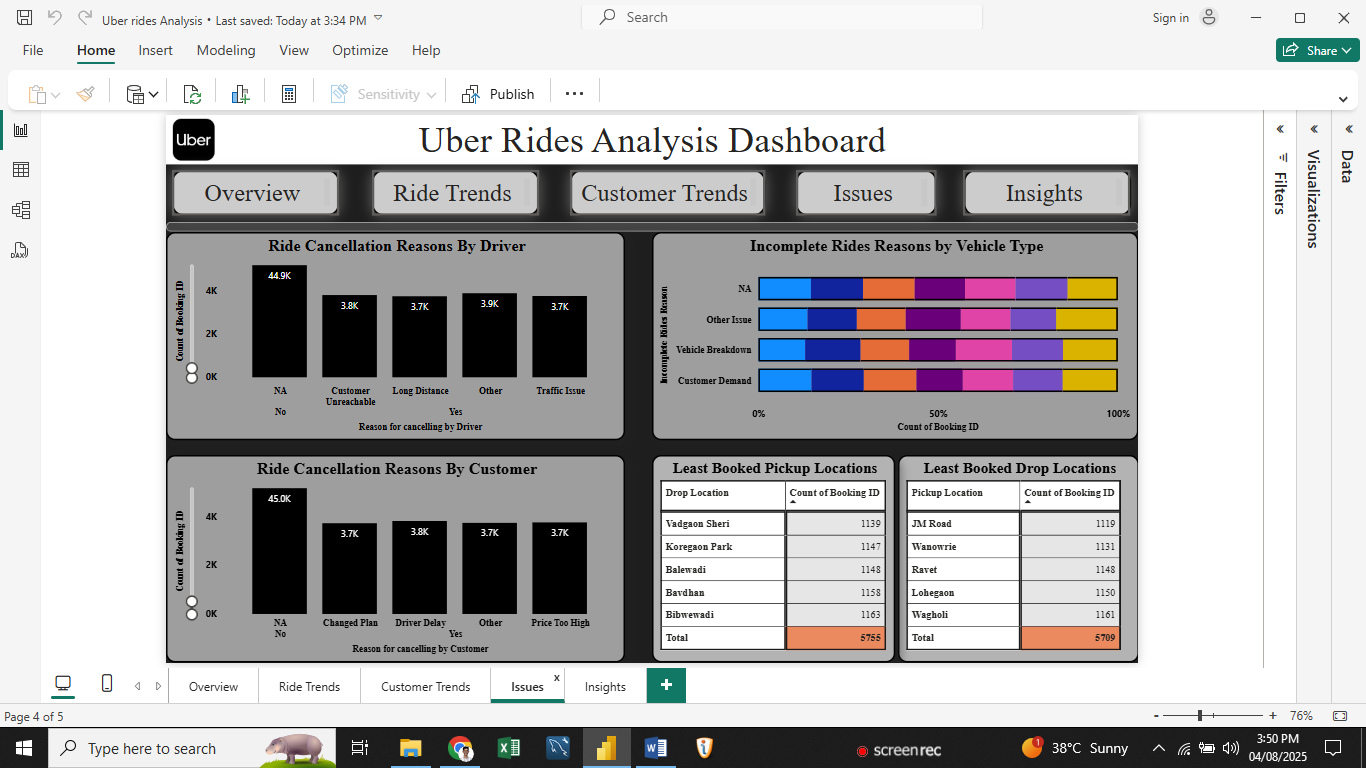

Layout of this report page (visuals, bound fields, positions):
{"tool":"powerbi","page":{"name":"Issues","canvas":[1280,720],"ordinal":3},"visuals":[{"type":"textbox","box":[0,0,1280,65.2],"z":0},{"type":"image","box":[0,0,73.9,65.2],"z":1000},{"type":"textbox","box":[7.8,72,219.8,60.3],"z":2000},{"type":"textbox","box":[270.4,72,219.8,60.3],"z":3000},{"type":"textbox","box":[532,72,257,60],"z":4000},{"type":"textbox","box":[829,72,185,60],"z":5000},{"type":"textbox","box":[1049.5,72,219.8,60.3],"z":6000},{"type":"actionButton","box":[270.4,72,219.8,60.3],"z":7000},{"type":"actionButton","box":[1049,72,220,60],"z":8000},{"type":"actionButton","box":[7.8,72,219.8,60.3],"z":9000},{"type":"shape","box":[0,141,1280,12.6],"z":10000},{"type":"clusteredColumnChart","title":"Ride Cancellation Reasons By Driver","fields":{"Category":["Uber_Pune_Booking_Data.Cancelled Rides by Driver","Uber_Pune_Booking_Data.Reason for cancelling by Driver"],"Y":["CountNonNull(Uber_Pune_Booking_Data.Booking ID)"]},"box":[0,154,604,274],"z":11000},{"type":"clusteredColumnChart","title":"Ride Cancellation Reasons By Customer","fields":{"Y":["CountNonNull(Uber_Pune_Booking_Data.Booking ID)"],"Category":["Uber_Pune_Booking_Data.Cancelled Rides by Customer","Uber_Pune_Booking_Data.Reason for cancelling by Customer"]},"box":[0,447,604,273],"z":12000},{"type":"hundredPercentStackedBarChart","title":" Incomplete Rides Reasons by Vehicle Type","fields":{"Y":["CountNonNull(Uber_Pune_Booking_Data.Booking ID)"],"Series":["Uber_Pune_Booking_Data.Vehicle Type"],"Category":["Uber_Pune_Booking_Data.Incomplete Rides Reason"]},"box":[640,154,640,274],"z":13000},{"type":"pivotTable","title":"Least Booked Drop Locations","fields":{"Rows":["Uber_Pune_Booking_Data.Pickup Location"],"Values":["CountNonNull(Uber_Pune_Booking_Data.Booking ID)"]},"box":[963,447,317,273],"z":14000},{"type":"pivotTable","title":"Least Booked Pickup Locations","fields":{"Rows":["Uber_Pune_Booking_Data.Drop Location"],"Values":["CountNonNull(Uber_Pune_Booking_Data.Booking ID)"]},"box":[640,447,320,273],"z":15000},{"type":"actionButton","box":[829,72,185,60],"z":16000},{"type":"actionButton","box":[532,72,257,60],"z":17000}]}

Visuals, with their boxes on the page's 1280x720 design canvas (x1, y1, x2, y2). These are canvas units, not pixel positions in the 1366x768 screenshot, which may show the page scaled, cropped or inside an application window:
textbox: BBox(0, 0, 1280, 65)
image: BBox(0, 0, 74, 65)
textbox: BBox(8, 72, 228, 132)
textbox: BBox(270, 72, 490, 132)
textbox: BBox(532, 72, 789, 132)
textbox: BBox(829, 72, 1014, 132)
textbox: BBox(1050, 72, 1269, 132)
actionButton: BBox(270, 72, 490, 132)
actionButton: BBox(1049, 72, 1269, 132)
actionButton: BBox(8, 72, 228, 132)
shape: BBox(0, 141, 1280, 154)
"Ride Cancellation Reasons By Driver" clusteredColumnChart: BBox(0, 154, 604, 428)
"Ride Cancellation Reasons By Customer" clusteredColumnChart: BBox(0, 447, 604, 720)
" Incomplete Rides Reasons by Vehicle Type" hundredPercentStackedBarChart: BBox(640, 154, 1280, 428)
"Least Booked Drop Locations" pivotTable: BBox(963, 447, 1280, 720)
"Least Booked Pickup Locations" pivotTable: BBox(640, 447, 960, 720)
actionButton: BBox(829, 72, 1014, 132)
actionButton: BBox(532, 72, 789, 132)
